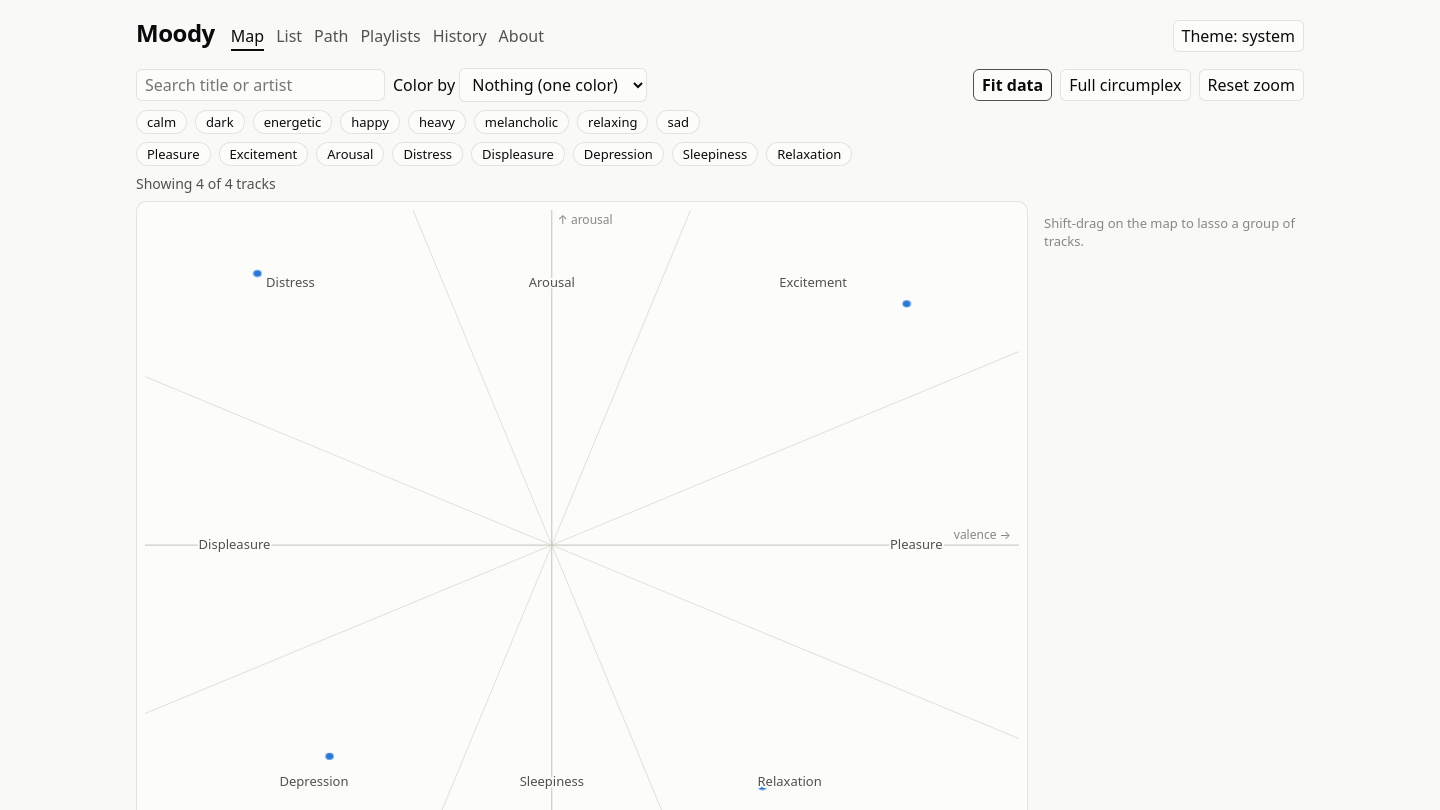
Test case: color by a field shows a sequential legend
Select "Tempo (BPM)" in the dropdown labelled "Color by" at {"x": 553, "y": 85}, box [459, 68, 647, 102]
(page scrolled)
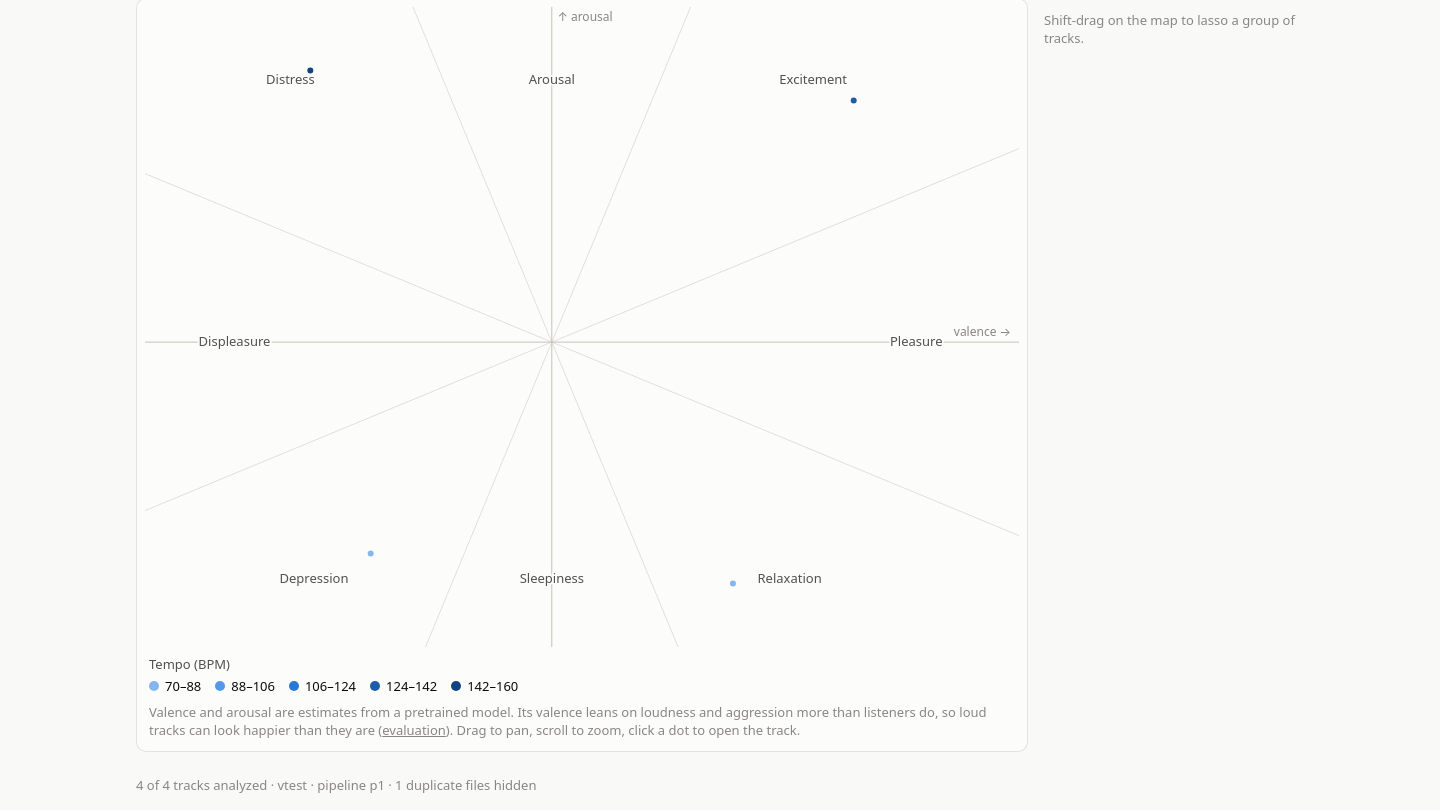
Result: the element named "Legend: Tempo (BPM)" is shown at [149, 655, 518, 695]
